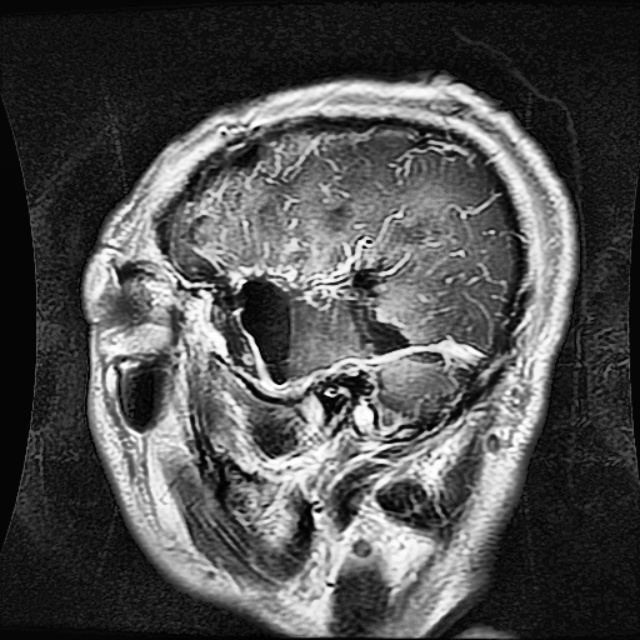Meningioma: (234, 268, 413, 384)
